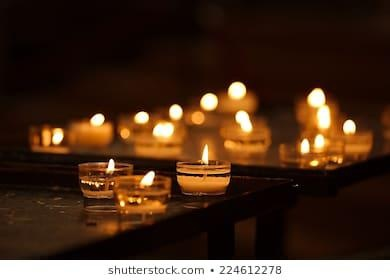fire: (300, 82, 340, 164)
